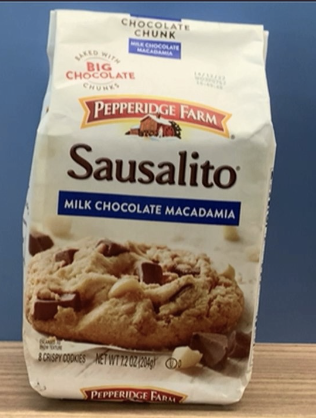cookies_200g-299g: (52, 95, 240, 366)
